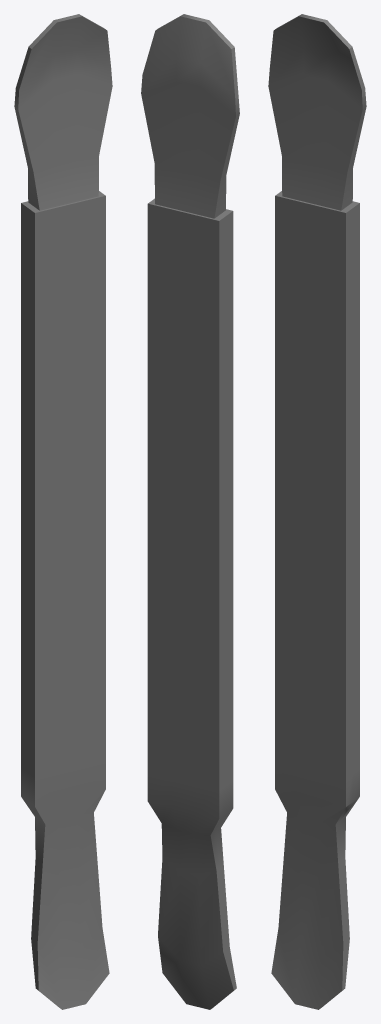
Rendered from Seldin_Model.fbx.
The picture shows the model from 3 angles, left to right: view 1: azimuth 30°, elevation 25°; view 2: azimuth 150°, elevation 25°; view 3: azimuth 330°, elevation 25°; orthographic projection.
Parts seen in each view (by area): view 1: Seldin1; view 2: Seldin1; view 3: Seldin1.
Part boxes in pixels (x1,y1,x2,y2): Seldin1: (14,14,112,1009); Seldin1: (141,14,239,1009); Seldin1: (268,14,366,1009).
Size of the model in its own units: 1.33 by 13.26 by 0.4295.
